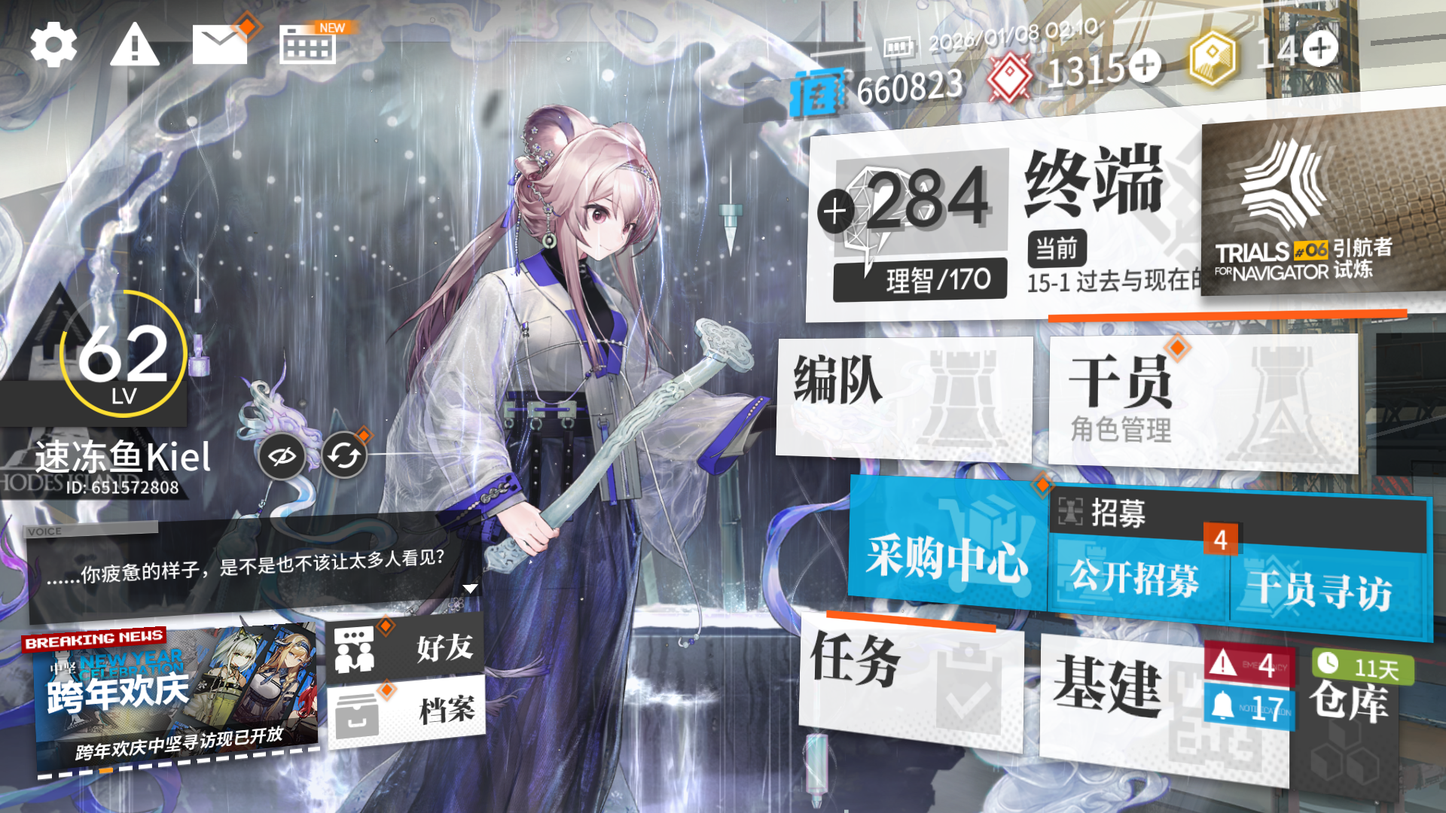home_button: (1027, 133, 1202, 269)
infrastructure_button: (1048, 638, 1282, 748)
